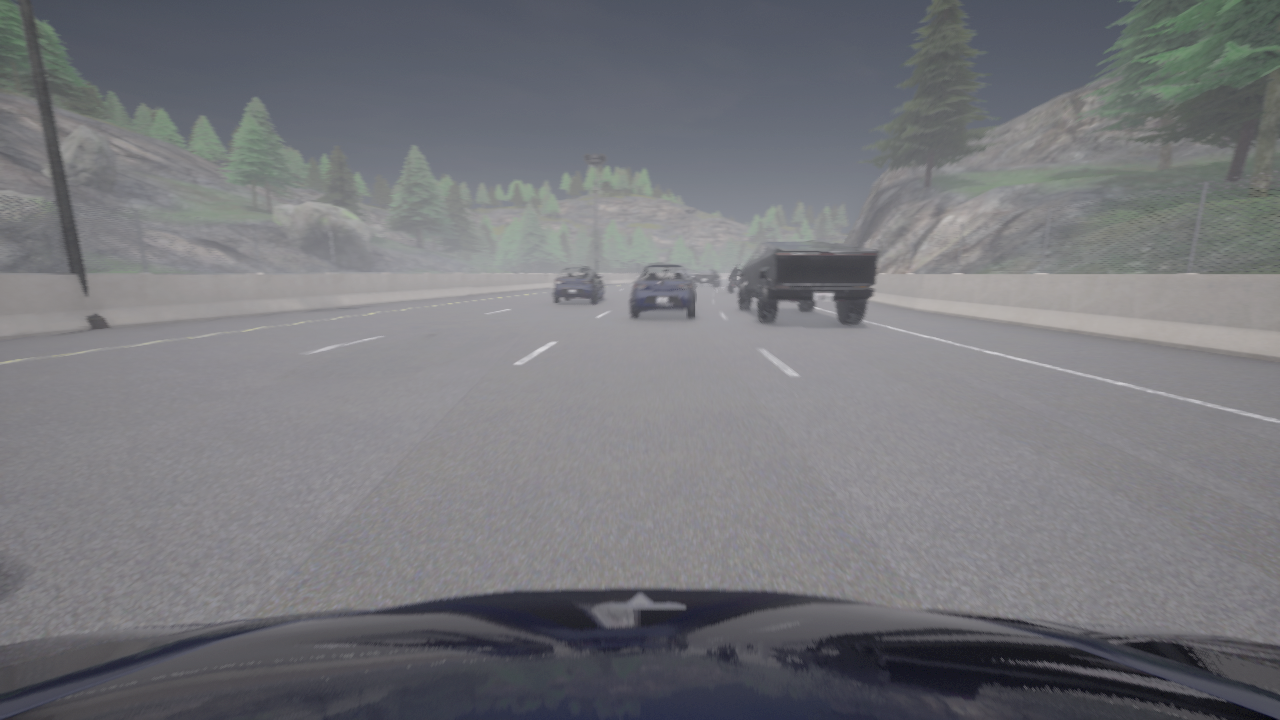cyclist: (0, 588, 1279, 719), (737, 241, 877, 324), (630, 264, 695, 318), (552, 267, 603, 303), (728, 263, 743, 292), (694, 270, 719, 286), (685, 269, 695, 282)
